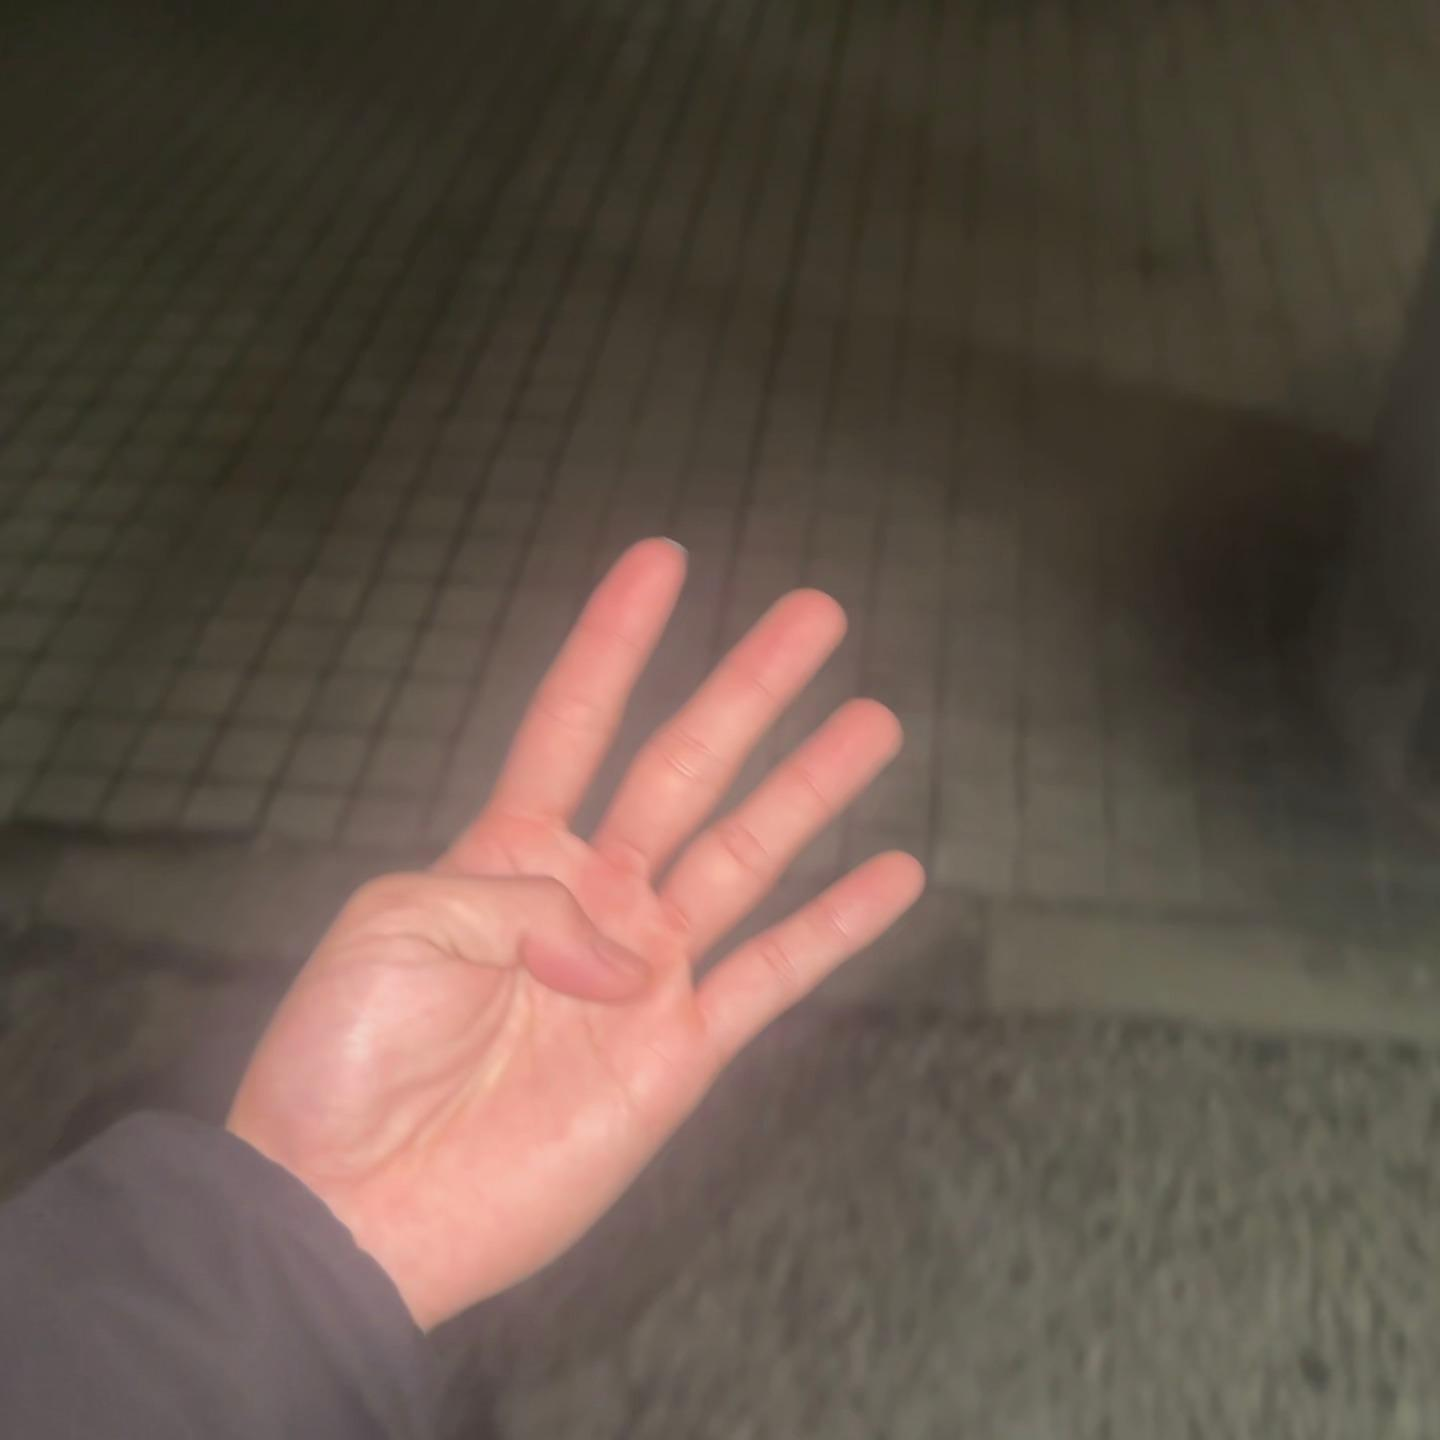without_gloves: (198, 394, 1114, 1378)
